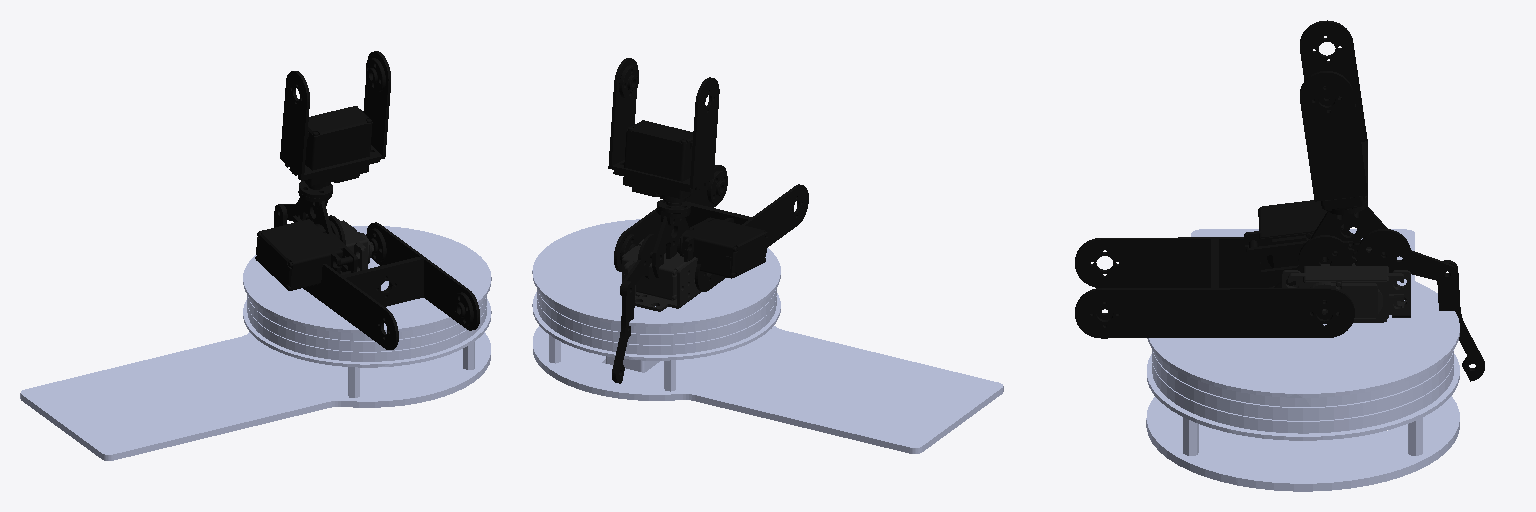
robot.urdf — six_servo:
<?xml version="1.0" encoding="utf-8" ?>
<!-- This URDF was automatically created by SolidWorks to URDF Exporter! Originally created by [author] ([email redacted]) 
     Commit Version: 1.6.0-1-g15f4949  Build Version: 1.6.7594.29634
     For more information, please see http://wiki.ros.org/sw_urdf_exporter -->
<robot name="six_servo">
    <link name="base_link">
        <!--inertial>
            <origin xyz="-0.018875 0.0012578 0.021854" rpy="0 0 0" />
            <mass value="0.19205" />
            <inertia ixx="0.00016092" ixy="2.2769E-06" ixz="-1.8938E-05" iyy="0.00040613" iyz="2.3218E-07" izz="0.0005467" />
        </inertial-->
        <visual>
            <origin xyz="0 0 0" rpy="-1.5708 0 0" />
            <geometry>
                <mesh filename="package://six_servo/meshes/base_link.dae" scale="6.5 5 6.5" />
            </geometry>
            <material name="">
                <color rgba="0.79216 0.81961 0.93333 1" />
            </material>
        </visual>
        <collision>
            <origin xyz="0 0 0" rpy="0 0 0" />
            <geometry>
                <mesh filename="package://six_servo/meshes/base_link.dae" scale="6.5 5 6.5" />
            </geometry>
        </collision>
        <inertial>
            <mass value="0.1" />
            <origin xyz="0 0 0" rpy="0 0 0" />
            <inertia ixx="0.03" iyy="0.03" izz="0.03" ixy="0.0" ixz="0.0" iyz="0.0" />
        </inertial>
    </link>
    <link name="link1">
        <inertial>
            <origin xyz="0.019845 -0.018933 -0.01119" rpy="0 0 0" />
            <mass value="0.045014" />
            <inertia ixx="4.7182E-06" ixy="3.953E-08" ixz="1.6436E-09" iyy="9.8584E-06" iyz="-4.236E-07" izz="1.0906E-05" />
        </inertial>
        <visual>
            <origin xyz="0 0 0" rpy="0 0 0" />
            <geometry>
                <mesh filename="package://six_servo/meshes/link1.STL" scale="5 5 5" />
            </geometry>
            <material name="">
                <color rgba="0.15 0.15 0.15 1" />
            </material>
        </visual>
        <collision>
            <origin xyz="0 0 0" rpy="0 0 0" />
            <geometry>
                <mesh filename="package://six_servo/meshes/link1.STL" scale="5 5 5" />
            </geometry>
        </collision>
    </link>
    <joint name="joint1" type="revolute">
        <!--0.0076655 -0.05 -0.014602-->
        <origin xyz="0 0 0.255" rpy="-3.14 0 1.5708" />
        <parent link="base_link" />
        <child link="link1" />
        <axis xyz="0 0 1" />
        <limit lower="0" upper="3.1416" effort="2000" velocity="6.28" />
    </joint>
    <link name="link2">
        <inertial>
            <origin xyz="-9.6446E-05 -0.051 0.011223" rpy="0 0 0" />
            <mass value="0.049995" />
            <inertia ixx="4.6603E-05" ixy="-3.0854E-08" ixz="-1.1117E-20" iyy="3.0288E-05" iyz="-5.5477E-21" izz="2.134E-05" />
        </inertial>
        <visual>
            <origin xyz="0 0 0" rpy="0 0 0" />
            <geometry>
                <mesh filename="package://six_servo/meshes/link2.dae" scale="5 5 5" />
            </geometry>
            <material name="">
                <color rgba="0.1 0.1 0.1 1" />
            </material>
        </visual>
        <collision>
            <origin xyz="0 0 0" rpy="0 0 0" />
            <geometry>
                <mesh filename="package://six_servo/meshes/link2.dae" scale="5 5 5" />
            </geometry>
        </collision>
    </link>
    <joint name="joint2" type="revolute">
        <origin xyz="0.05 0 -0.066460" rpy="1.5708 1.5708 0" />
        <parent link="link1" />
        <child link="link2" />
        <axis xyz="0 0 1" />
        <limit lower="0" upper="3.1416" effort="2000" velocity="6.28" />
    </joint>
    <link name="link3">
        <inertial>
            <origin xyz="0.07528 -0.018025 0.002122" rpy="0 0 0" />
            <mass value="0.11189" />
            <inertia ixx="1.1218E-05" ixy="1.0566E-10" ixz="3.2873E-09" iyy="2.5125E-05" iyz="-8.4719E-07" izz="2.7114E-05" />
        </inertial>
        <visual>
            <origin xyz="0 0 0" rpy="0 0 0" />
            <geometry>
                <mesh filename="package://six_servo/meshes/link3.dae" scale="5 5 5" />
            </geometry>
            <material name="">
                <color rgba="0.1 0.1 0.1 1" />
            </material>
        </visual>
        <collision>
            <origin xyz="0 0 0" rpy="0 0 0" />
            <geometry>
                <mesh filename="package://six_servo/meshes/link3.dae" scale="5 5 5" />
            </geometry>
        </collision>
    </link>
    <joint name="joint3" type="revolute">
        <origin xyz="-0.00096445 -0.510 0" rpy="-1.5708 0 0.7538" />
        <parent link="link2" />
        <child link="link3" />
        <axis xyz="0 1 0" />
        <limit lower="0" upper="3.1416" effort="2000" velocity="6.28" />
    </joint>
    <link name="link4">
        <inertial>
            <origin xyz="-0.012388 0.035123 1.8331E-05" rpy="0 0 0" />
            <mass value="0.051687" />
            <inertia ixx="1.0059E-05" ixy="3.877E-08" ixz="6.0397E-13" iyy="1.9542E-05" iyz="3.8857E-09" izz="2.5393E-05" />
        </inertial>
        <visual>
            <origin xyz="0 0 0" rpy="0 0 0" />
            <geometry>
                <mesh filename="package://six_servo/meshes/link4.dae" scale="5 5 5" />
            </geometry>
            <material name="">
                <color rgba="0.1 0.1 0.1 1" />
            </material>
        </visual>
        <collision>
            <origin xyz="0 0 0" rpy="0 0 0" />
            <geometry>
                <mesh filename="package://six_servo/meshes/link4.dae" scale="5 5 5" />
            </geometry>
        </collision>
    </link>
    <joint name="joint4" type="revolute">
        <origin xyz="0.75285 0 0" rpy="0.8844 0 1.5708" />
        <parent link="link3" />
        <child link="link4" />
        <axis xyz="1 0 0" />
        <limit lower="0" upper="3.1416" effort="2000" velocity="6.28" />
    </joint>
    <link name="link5">
        <inertial>
            <origin xyz="-0.016771 -0.019023 -0.026447" rpy="0 0 0" />
            <mass value="0.039432" />
            <inertia ixx="7.2715E-06" ixy="-7.6833E-08" ixz="3.0175E-10" iyy="2.3347E-06" iyz="8.7991E-09" izz="6.5466E-06" />
        </inertial>
        <visual>
            <origin xyz="0 0 0" rpy="0 0 0" />
            <geometry>
                <mesh filename="package://six_servo/meshes/link5.dae" scale="5 5 5" />
            </geometry>
            <material name="">
                <color rgba="0.1 0.1 0.1 1" />
            </material>
        </visual>
        <collision>
            <origin xyz="0 0 0" rpy="0 0 0" />
            <geometry>
                <mesh filename="package://six_servo/meshes/link5.dae" scale="5 5 5" />
            </geometry>
        </collision>
    </link>
    <joint name="joint5" type="revolute">
        <origin xyz="-0.11625 0.334020 17.8725E-05" rpy="-1.5708 3.1464 3.1416" />
        <parent link="link4" />
        <child link="link5" />
        <axis xyz="0 0 1" />
        <limit lower="0" upper="3.1416" effort="2000" velocity="6.28" />
    </joint>
    <link name="link6_1">
        <inertial>
            <origin xyz="0.00011182 -0.0027632 0.0047626" rpy="0 0 0" />
            <mass value="0.0034196" />
            <inertia ixx="2.6556E-07" ixy="-4.9134E-09" ixz="9.2644E-23" iyy="9.8312E-08" iyz="3.4328E-22" izz="3.5886E-07" />
        </inertial>
        <visual>
            <origin xyz="0 0 0" rpy="0 0 0" />
            <geometry>
                <mesh filename="package://six_servo/meshes/link6_1.dae" scale="5 5 5" />
            </geometry>
            <material name="">
                <color rgba="0.1 0.1 0.1 1" />
            </material>
        </visual>
        <collision>
            <origin xyz="0 0 0" rpy="0 0 0" />
            <geometry>
                <mesh filename="package://six_servo/meshes/link6_1.dae" scale="5 5 5" />
            </geometry>
        </collision>
    </link>
    <joint name="joint6_1" type="revolute">
        <origin xyz="0 -0.0675 -0.147855" rpy="1.5708 0.98921 1.5708" />
        <parent link="link5" />
        <child link="link6_1" />
        <axis xyz="0 0 1" />
        <limit lower="0" upper="0.9599" effort="2000" velocity="6.28" />
    </joint>
    <link name="link7_1">
        <inertial>
            <origin xyz="-0.0062954 0.022738 0.014232" rpy="0 0 0" />
            <mass value="0.0014839" />
            <inertia ixx="4.3406E-07" ixy="7.4037E-08" ixz="7.9409E-23" iyy="2.9089E-08" iyz="-4.0739E-22" izz="4.6093E-07" />
        </inertial>
        <visual>
            <origin xyz="0 0 0" rpy="0 0 0" />
            <geometry>
                <mesh filename="package://six_servo/meshes/link7_1.STL" scale="5 5 5" />
            </geometry>
            <material name="">
                <color rgba="0.1 0.1 0.1 1" />
            </material>
        </visual>
        <collision>
            <origin xyz="0 0 0" rpy="0 0 0" />
            <geometry>
                <mesh filename="package://six_servo/meshes/link7_1.STL" scale="5 5 5" />
            </geometry>
        </collision>
    </link>
    <joint name="joint7_1" type="continuous">
        <origin xyz="-0.00097820 -0.155245 -0.052410" rpy="0 0 -2.2378" />
        <parent link="link6_1" />
        <child link="link7_1" />
        <axis xyz="0 0 1" />
        <limit lower="0" upper="0" effort="2000" velocity="6.28" />
        <mimic joint="joint6_1" multiplier="-1" offset="0.0873" />
    </joint>
    <link name="link6_2">
        <inertial>
            <origin xyz="0.00026689 -0.0065013 -0.011645" rpy="0 0 0" />
            <mass value="0.0014534" />
            <inertia ixx="2.1584E-07" ixy="-4.8715E-09" ixz="2.9779E-23" iyy="4.7208E-08" iyz="2.068E-23" izz="2.62E-07" />
        </inertial>
        <visual>
            <origin xyz="0 0 0" rpy="0 0 0" />
            <geometry>
                <mesh filename="package://six_servo/meshes/link6_2.STL" scale="5 5 5" />
            </geometry>
            <material name="">
                <color rgba="0.1 0.1 0.1 1" />
            </material>
        </visual>
        <collision>
            <origin xyz="0 0 0" rpy="0 0 0" />
            <geometry>
                <mesh filename="package://six_servo/meshes/link6_2.STL" scale="5 5 5" />
            </geometry>
        </collision>
    </link>
    <joint name="joint6_2" type="continuous">
        <origin xyz="-0.0271135 0.070 -0.149730" rpy="1.5708 1.1052 -1.5708" />
        <parent link="link5" />
        <child link="link6_2" />
        <axis xyz="0 0 1" />
        <limit lower="0" upper="0" effort="2000" velocity="6.28" />
        <mimic joint="joint6_1" multiplier="1" offset="0" />
    </joint>
    <link name="link7_2">
        <inertial>
            <origin xyz="-0.0062954 0.022738 -0.01465" rpy="0 0 0" />
            <mass value="0.0014839" />
            <inertia ixx="4.3406E-07" ixy="7.4037E-08" ixz="-2.068E-23" iyy="2.9089E-08" iyz="-3.3294E-23" izz="4.6093E-07" />
        </inertial>
        <visual>
            <origin xyz="0 0 0" rpy="0 0 0" />
            <geometry>
                <mesh filename="package://six_servo/meshes/link7_2.STL" scale="5 5 5" />
            </geometry>
            <material name="">
                <color rgba="0.1 0.1 0.1 1" />
            </material>
        </visual>
        <collision>
            <origin xyz="0 0 0" rpy="0 0 0" />
            <geometry>
                <mesh filename="package://six_servo/meshes/link7_2.STL" scale="5 5 5" />
            </geometry>
        </collision>
    </link>
    <joint name="joint7_2" type="continuous">
        <origin xyz="-0.00097820 -0.155245 0.027135" rpy="0 0 -2.3584" />
        <parent link="link6_2" />
        <child link="link7_2" />
        <axis xyz="0 0 1" />
        <limit lower="0" upper="0" effort="2000" velocity="6.28" />
        <mimic joint="joint7_1" multiplier="1" offset="0.2618" />
    </joint>
    <transmission name="trans_joint1">
        <type>transmission_interface/SimpleTransmission</type>
        <joint name="joint1">
            <hardwareInterface>hardware_interface/EffortJointInterface</hardwareInterface>
        </joint>
        <actuator name="joint1_motor">
            <hardwareInterface>hardware_interface/EffortJointInterface</hardwareInterface>
            <mechanicalReduction>1</mechanicalReduction>
        </actuator>
    </transmission>
    <transmission name="trans_joint2">
        <type>transmission_interface/SimpleTransmission</type>
        <joint name="joint2">
            <hardwareInterface>hardware_interface/EffortJointInterface</hardwareInterface>
        </joint>
        <actuator name="joint2_motor">
            <hardwareInterface>hardware_interface/EffortJointInterface</hardwareInterface>
            <mechanicalReduction>1</mechanicalReduction>
        </actuator>
    </transmission>
    <transmission name="trans_joint3">
        <type>transmission_interface/SimpleTransmission</type>
        <joint name="joint3">
            <hardwareInterface>hardware_interface/EffortJointInterface</hardwareInterface>
        </joint>
        <actuator name="joint3_motor">
            <hardwareInterface>hardware_interface/EffortJointInterface</hardwareInterface>
            <mechanicalReduction>1</mechanicalReduction>
        </actuator>
    </transmission>
    <transmission name="trans_joint4">
        <type>transmission_interface/SimpleTransmission</type>
        <joint name="joint4">
            <hardwareInterface>hardware_interface/EffortJointInterface</hardwareInterface>
        </joint>
        <actuator name="joint4_motor">
            <hardwareInterface>hardware_interface/EffortJointInterface</hardwareInterface>
            <mechanicalReduction>1</mechanicalReduction>
        </actuator>
    </transmission>
    <transmission name="trans_joint5">
        <type>transmission_interface/SimpleTransmission</type>
        <joint name="joint5">
            <hardwareInterface>hardware_interface/EffortJointInterface</hardwareInterface>
        </joint>
        <actuator name="joint5_motor">
            <hardwareInterface>hardware_interface/EffortJointInterface</hardwareInterface>
            <mechanicalReduction>1</mechanicalReduction>
        </actuator>
    </transmission>
    <transmission name="trans_joint6_1">
        <type>transmission_interface/SimpleTransmission</type>
        <joint name="joint6_1">
            <hardwareInterface>hardware_interface/EffortJointInterface</hardwareInterface>
        </joint>
        <actuator name="joint6_1_motor">
            <hardwareInterface>hardware_interface/EffortJointInterface</hardwareInterface>
            <mechanicalReduction>1</mechanicalReduction>
        </actuator>
    </transmission>
    <transmission name="trans_joint7_1">
        <type>transmission_interface/SimpleTransmission</type>
        <joint name="joint7_1">
            <hardwareInterface>hardware_interface/EffortJointInterface</hardwareInterface>
        </joint>
        <actuator name="joint7_1_motor">
            <hardwareInterface>hardware_interface/EffortJointInterface</hardwareInterface>
            <mechanicalReduction>1</mechanicalReduction>
        </actuator>
    </transmission>
    <transmission name="trans_joint6_2">
        <type>transmission_interface/SimpleTransmission</type>
        <joint name="joint6_2">
            <hardwareInterface>hardware_interface/EffortJointInterface</hardwareInterface>
        </joint>
        <actuator name="joint6_2_motor">
            <hardwareInterface>hardware_interface/EffortJointInterface</hardwareInterface>
            <mechanicalReduction>1</mechanicalReduction>
        </actuator>
    </transmission>
    <transmission name="trans_joint7_2">
        <type>transmission_interface/SimpleTransmission</type>
        <joint name="joint7_2">
            <hardwareInterface>hardware_interface/EffortJointInterface</hardwareInterface>
        </joint>
        <actuator name="joint7_2_motor">
            <hardwareInterface>hardware_interface/EffortJointInterface</hardwareInterface>
            <mechanicalReduction>1</mechanicalReduction>
        </actuator>
    </transmission>
    <gazebo>
        <plugin name="gazebo_ros_control">
            <robotNamespace>/</robotNamespace>
        </plugin>
    </gazebo>
</robot>

--- Render facts (derived) ---
Views: 3 orthographic renders of the robot side by side, from view 1: azimuth 30°, elevation 25°; view 2: azimuth 150°, elevation 25°; view 3: azimuth 270°, elevation 25°.
Robot: six_servo — 10 links, 9 joints (6 revolute, 3 continuous); root link base_link; default pose: every joint at zero.
Visible links, largest first — view 1: base_link, link2, link4, link5, link1; view 2: base_link, link4, link5, link2, link1, link7_2, link6_2; view 3: base_link, link2, link4, link5, link1, link6_2, link7_2, link6_1.
Boxes of the visible links, x1,y1,x2,y2 form: base_link: (20,226,491,460); link2: (303,222,479,349); link4: (280,51,390,187); link5: (255,181,357,290); link1: (334,216,373,272); base_link: (532,219,1003,453); link4: (608,58,719,202); link5: (652,200,767,278); link2: (614,165,808,291); link1: (622,239,708,311); link7_2: (612,281,634,383); link6_2: (620,234,657,295); base_link: (1146,229,1459,491); link2: (1075,237,1354,338); link4: (1300,20,1367,210); link5: (1244,195,1387,280); link1: (1282,247,1410,322); link6_2: (1353,229,1456,282); link7_2: (1437,260,1484,381); link6_1: (1274,235,1355,287).
Bounding box of the posed robot: 1.4 × 0.9522 × 0.9396 m (x, y, z).
Meshes: 10 distinct files referenced, 9 mesh visuals loaded (4 binary STL, 5 Collada DAE); not drawn: 1 (reference not matched to a file when rendering).
